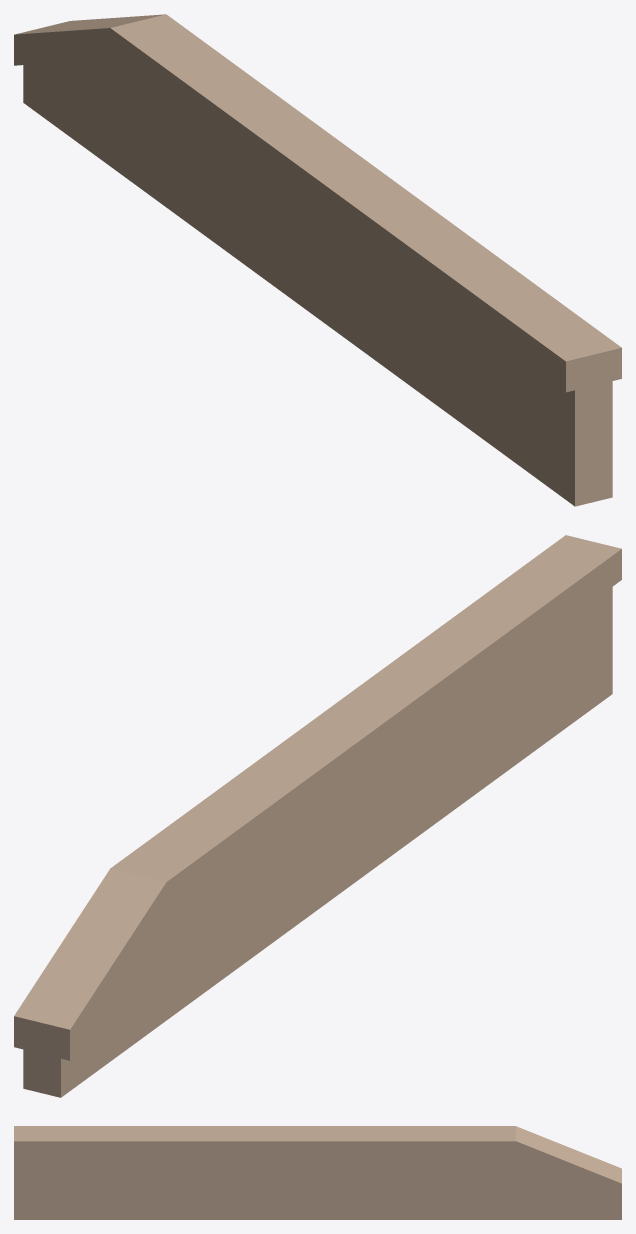
Rendered from BC_StairWall_C.fbx.
3 renders of one model, top to bottom at view 1: azimuth 30°, elevation 25°; view 2: azimuth 150°, elevation 25°; view 3: azimuth 270°, elevation 25°, orthographic. The views are drawn at different scales.
Visible parts, largest first — view 1: BC_StairWall_C; view 2: BC_StairWall_C; view 3: BC_StairWall_C.
Part boxes in pixels (x1=…): BC_StairWall_C: x1=14, y1=14, x2=621, y2=506; BC_StairWall_C: x1=14, y1=535, x2=621, y2=1097; BC_StairWall_C: x1=14, y1=1126, x2=621, y2=1219.
Bounding box in the file's own units: 79.53 × 200 × 1354.
